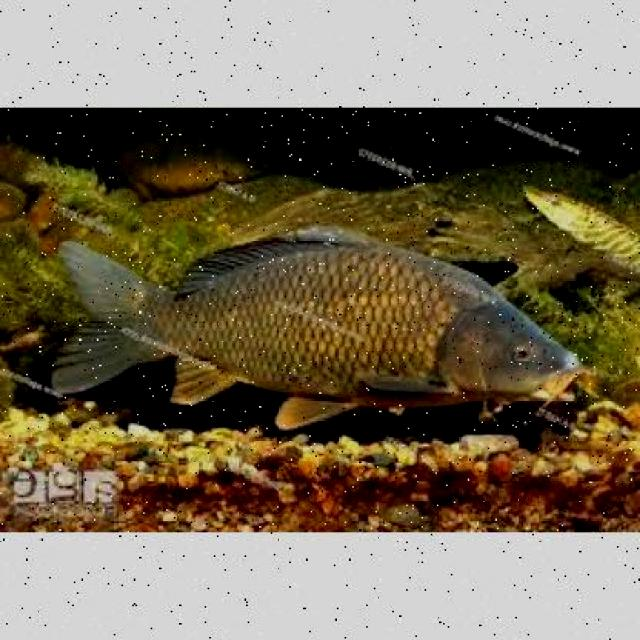ikan-mas: (48, 222, 580, 427)
